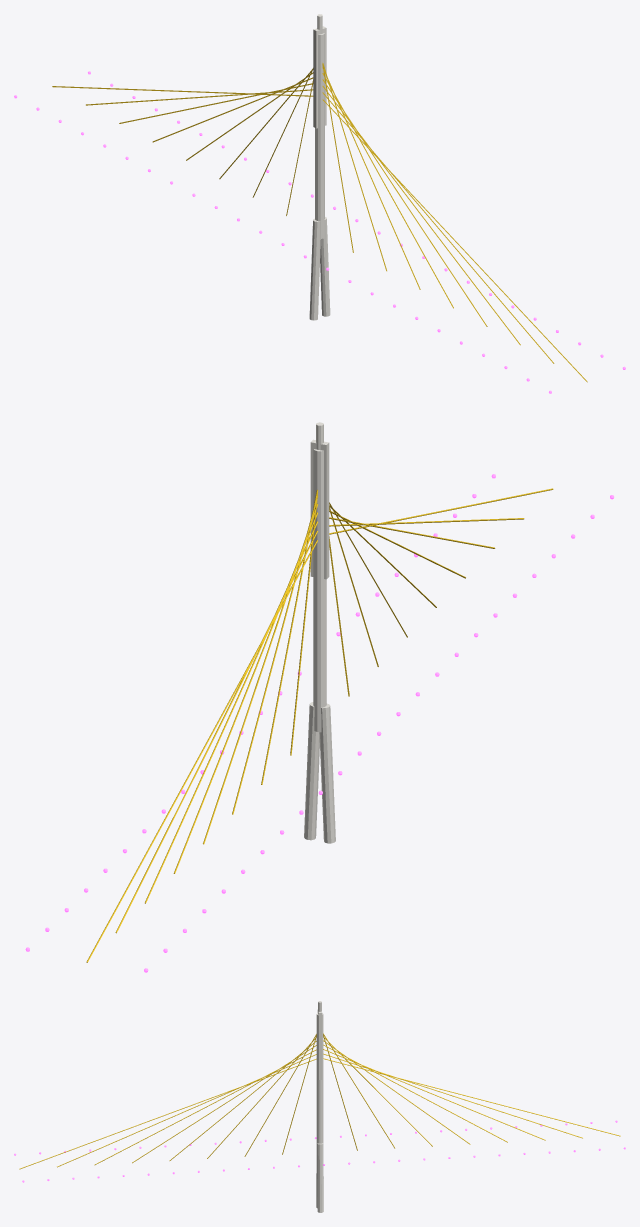
The model's file is atalsetu.glb.
The picture shows the model from 3 angles, top to bottom: view 1: azimuth 30°, elevation 25°; view 2: azimuth 150°, elevation 25°; view 3: azimuth 270°, elevation 25°; orthographic projection. The views are drawn at different scales.
Visible parts, largest first — view 1: Cylinder.002, Cylinder, Cylinder.001, Cube; view 2: Cylinder.002, Cylinder, Cylinder.001, Cube, Cylinder.019, Cylinder.018, Cylinder.017; view 3: Cylinder.002, Cylinder.001, Cylinder.011, Cylinder.019, Cylinder.010, Cylinder.018, Cube, Cylinder.017, Cylinder.009.
Part boxes in pixels (<box>): Cylinder.002: <box>315,33,324,238</box>; Cylinder: <box>309,218,320,320</box>; Cylinder.001: <box>320,217,330,316</box>; Cube: <box>313,26,326,128</box>; Cylinder.002: <box>313,449,326,732</box>; Cylinder: <box>319,703,335,843</box>; Cylinder.001: <box>304,702,319,840</box>; Cube: <box>310,439,329,579</box>; Cylinder.019: <box>86,540,317,962</box>; Cylinder.018: <box>115,530,317,933</box>; Cylinder.017: <box>145,521,317,903</box>; Cylinder.002: <box>316,1013,323,1154</box>; Cylinder.001: <box>317,1143,323,1212</box>; Cylinder.011: <box>19,1058,316,1169</box>; Cylinder.019: <box>323,1058,620,1136</box>; Cylinder.010: <box>57,1054,316,1167</box>; Cylinder.018: <box>323,1053,582,1138</box>; Cube: <box>317,1009,322,1079</box>; Cylinder.017: <box>323,1049,545,1140</box>; Cylinder.009: <box>94,1049,316,1165</box>.
Bounding box in the file's own units: 42.76 × 68.03 × 182.
